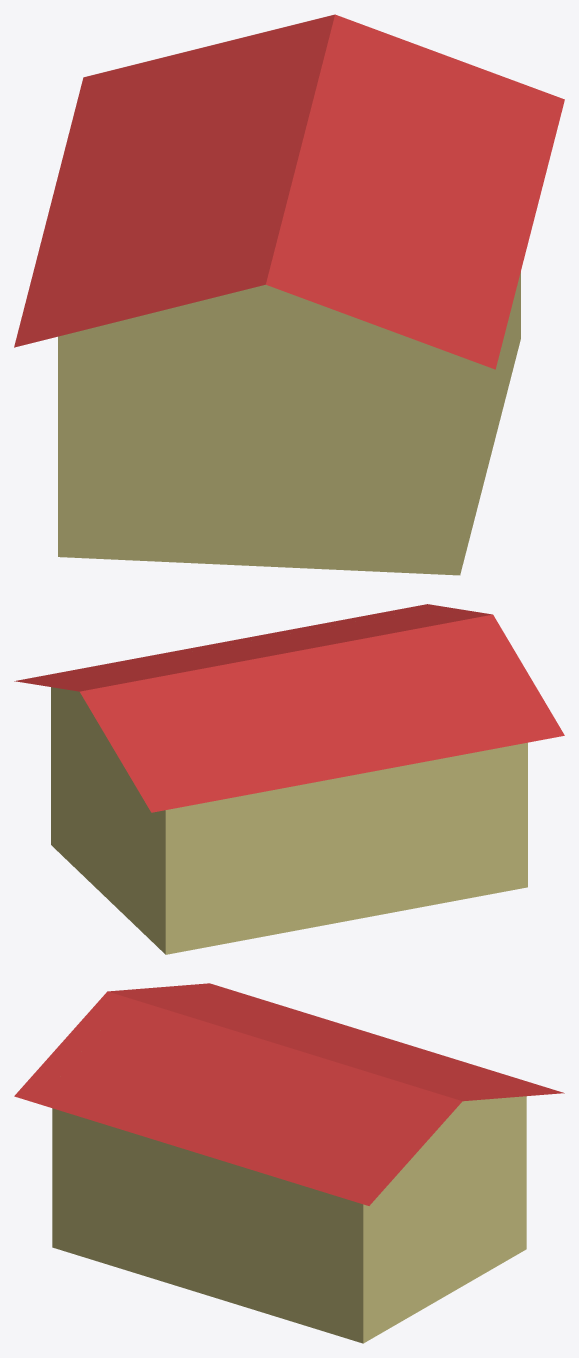
The picture shows the model from 3 angles, top to bottom: view 1: azimuth 30°, elevation 25°; view 2: azimuth 150°, elevation 25°; view 3: azimuth 270°, elevation 25°; orthographic projection. The views are drawn at different scales.
Size of the model in its own units: 19.27 by 20.13 by 8.25.
